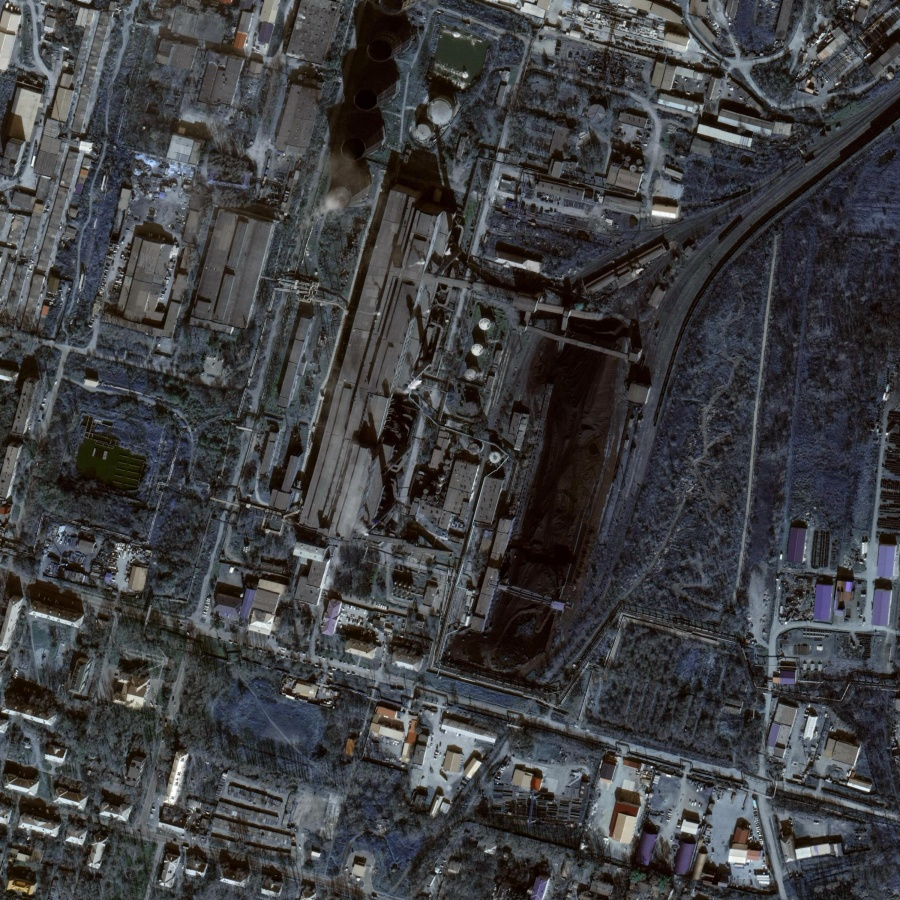PowerPlant: (348, 240, 652, 674)
